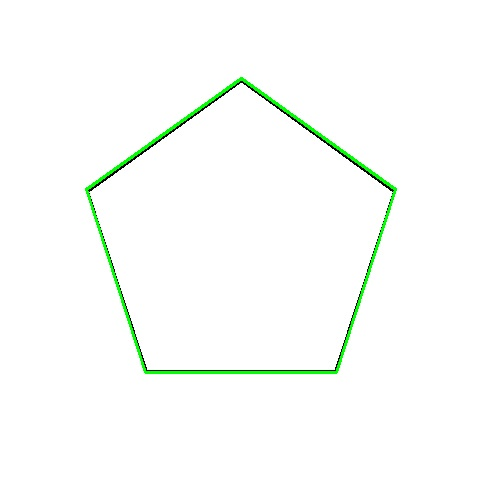line_segment: (86, 78, 397, 374)
